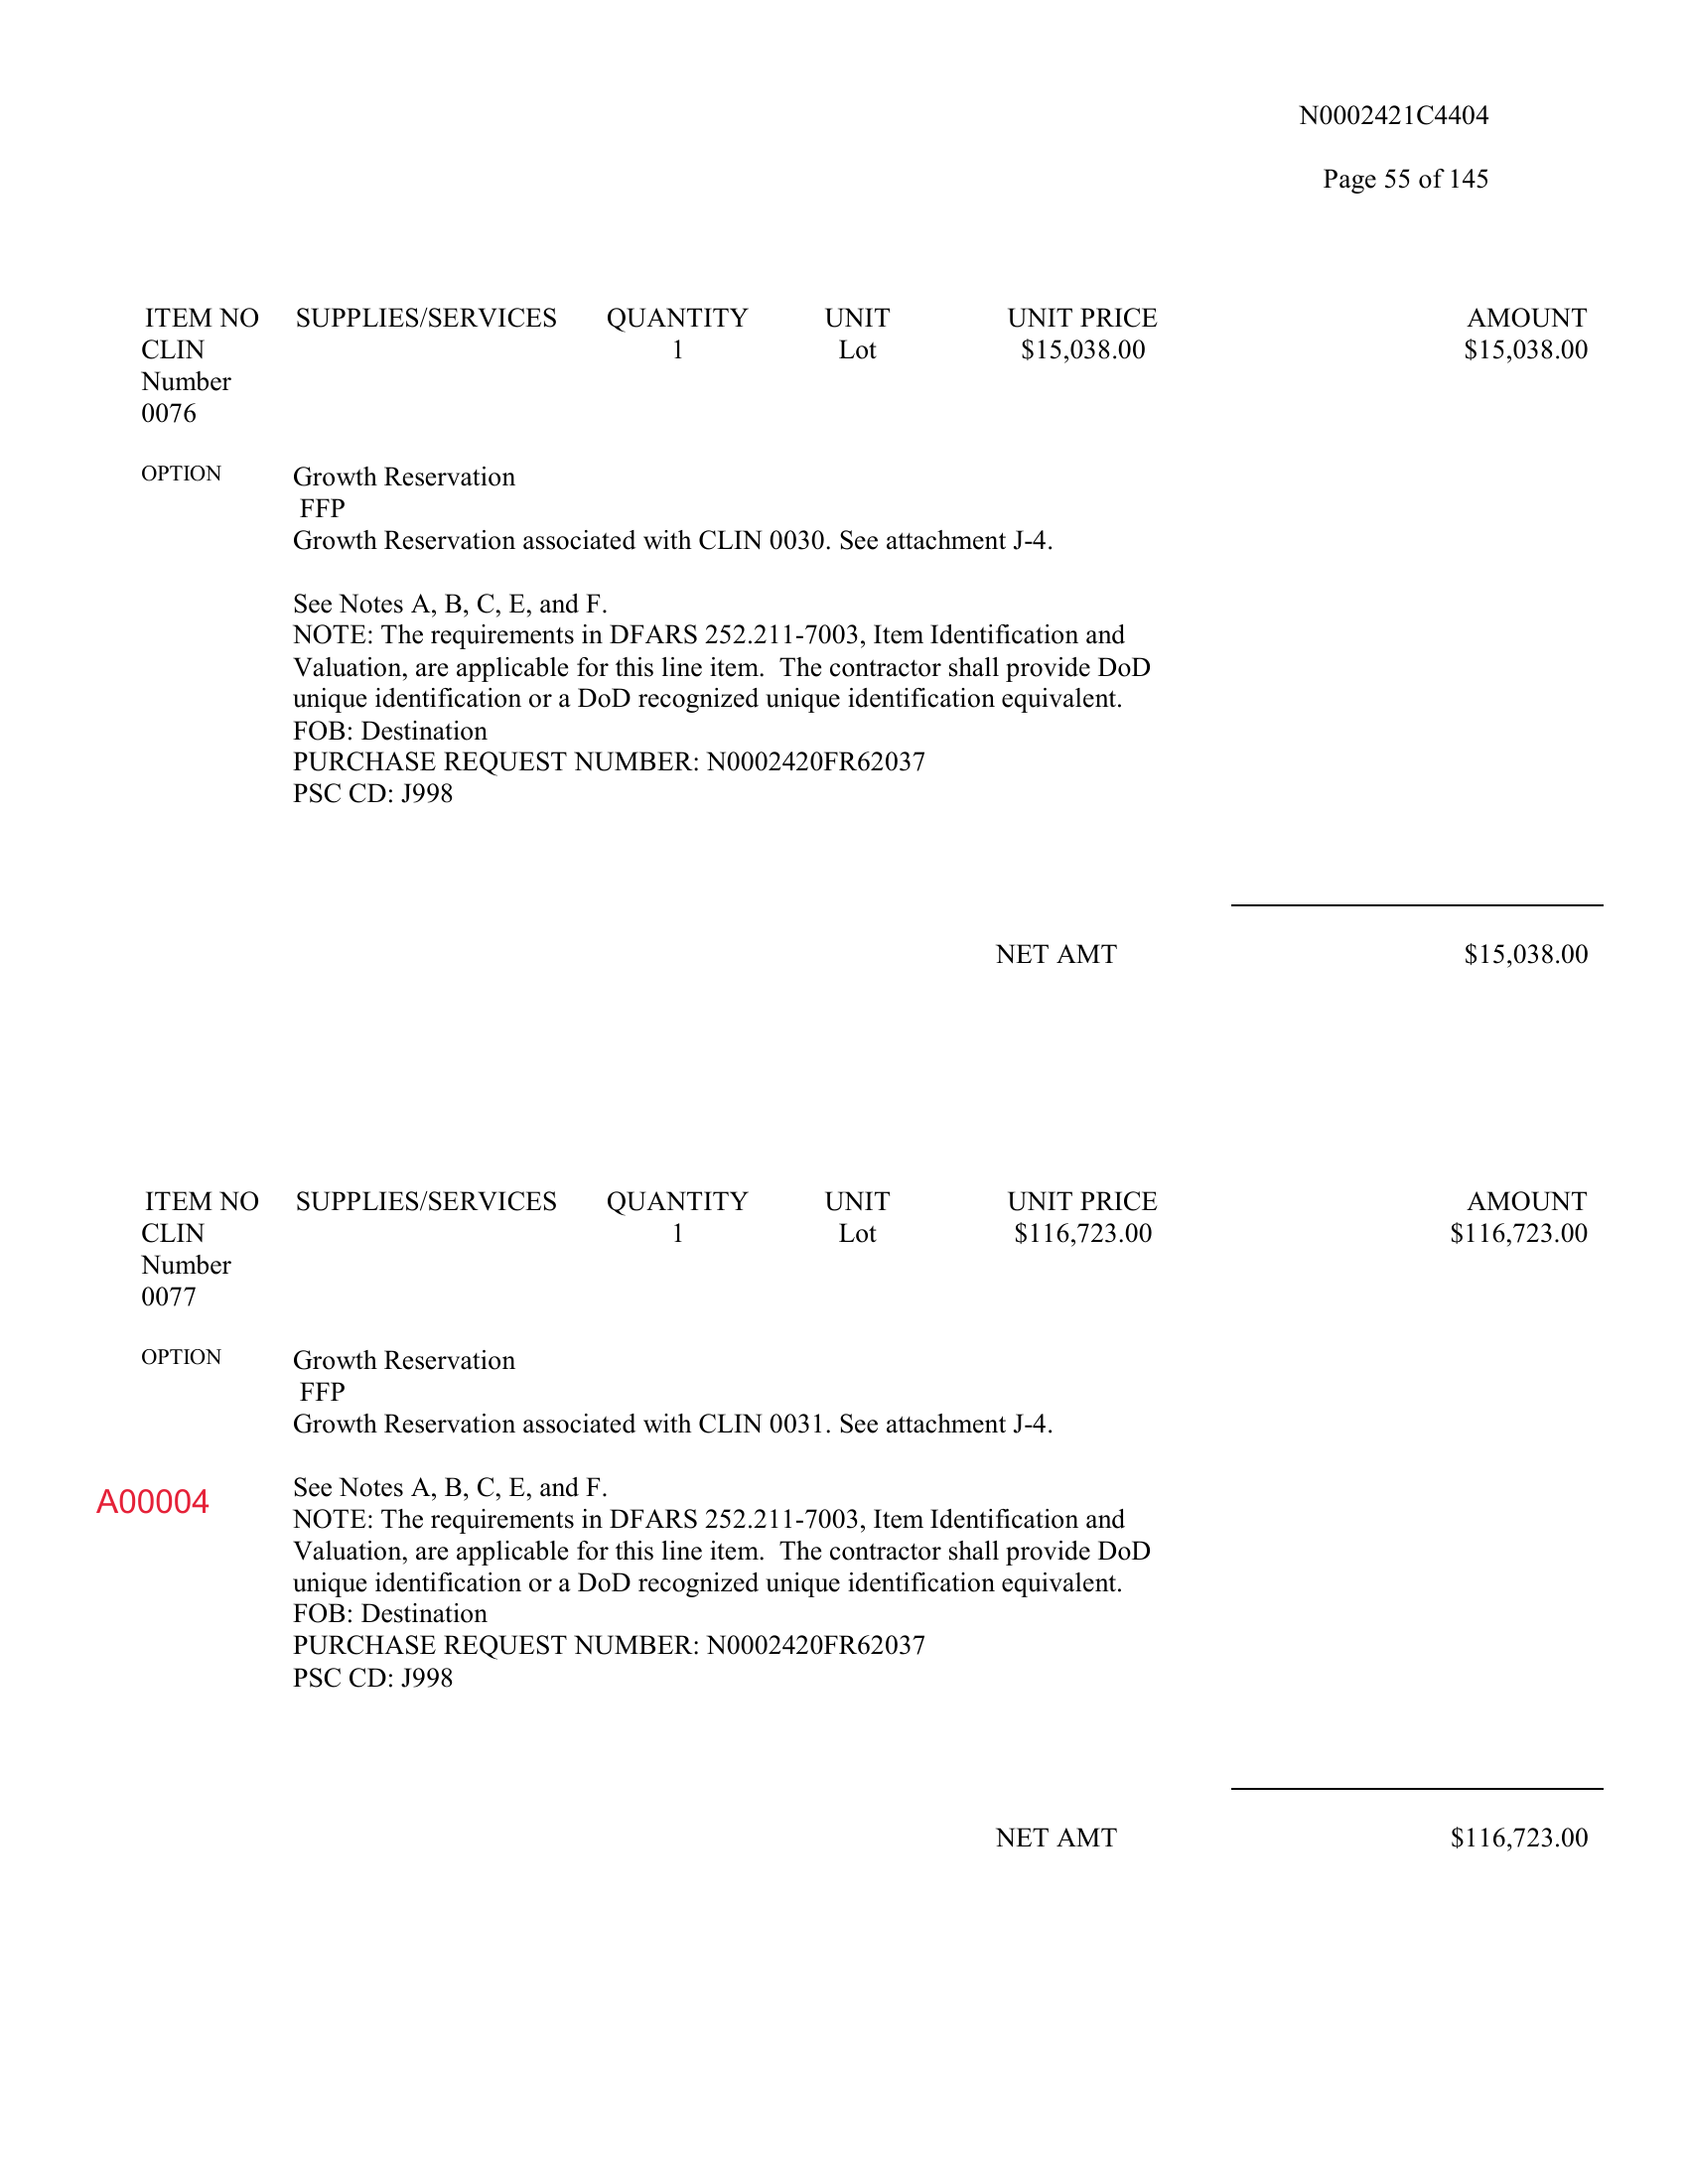table: (78, 1174, 1601, 1860), (138, 298, 1619, 971)
